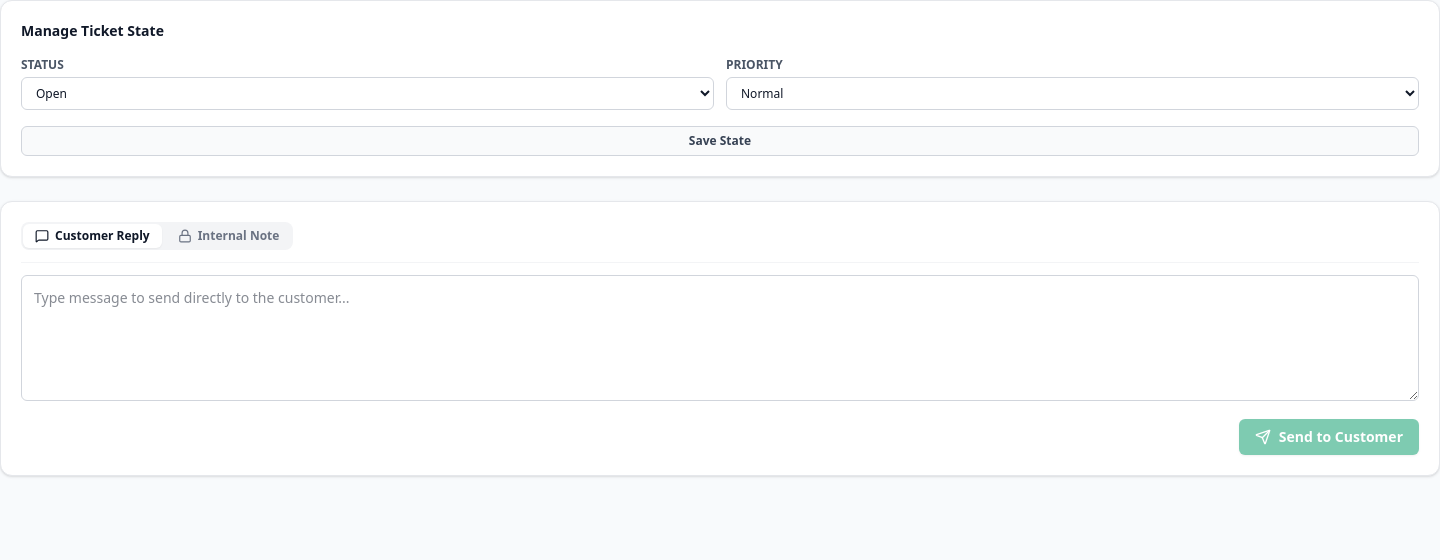
Test: migrated forms and navigation › keeps customer replies distinct from internal notes and handles transport failure
Click the button "Internal Note": (229, 236) [166, 224, 291, 248]
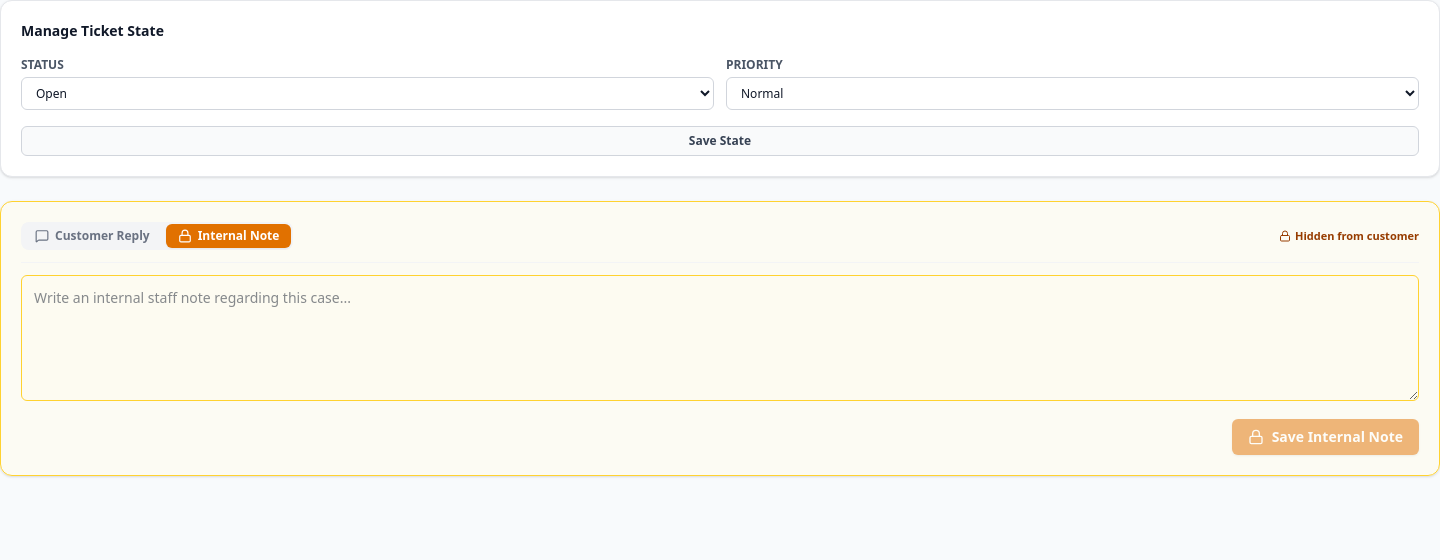
In the text box with placeholder "Write an internal staff note regarding this case...": (720, 338) [21, 275, 1419, 401], type "Synthetic internal note"
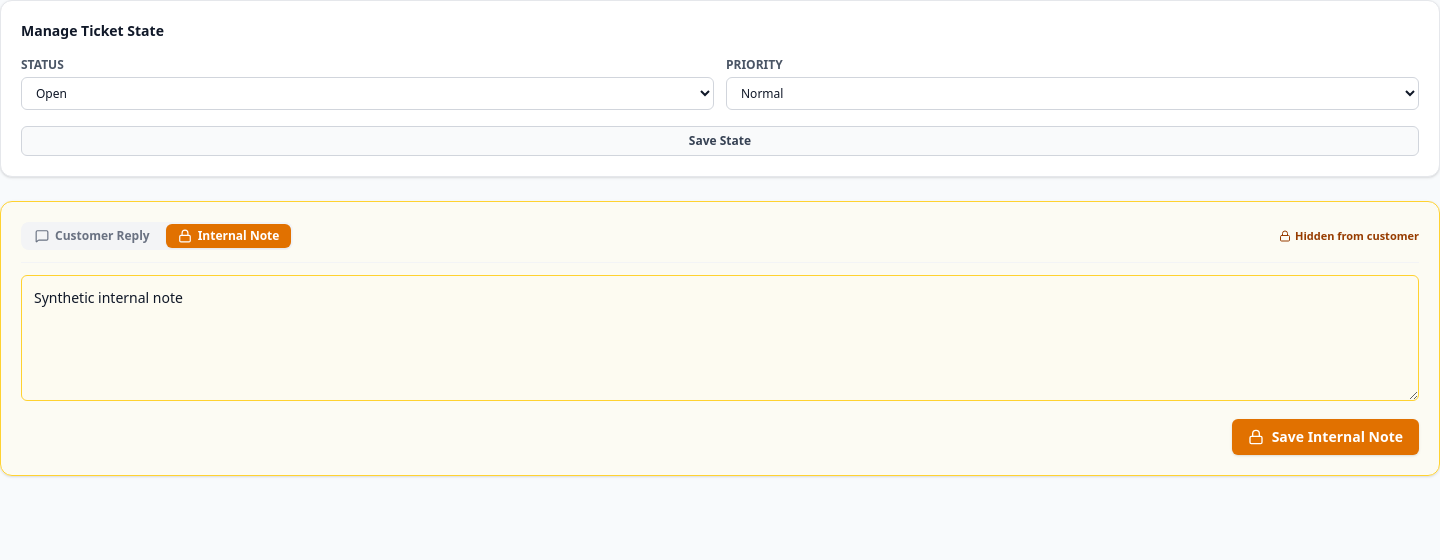
Click the button "Save Internal Note": (1325, 437) [1232, 419, 1419, 455]
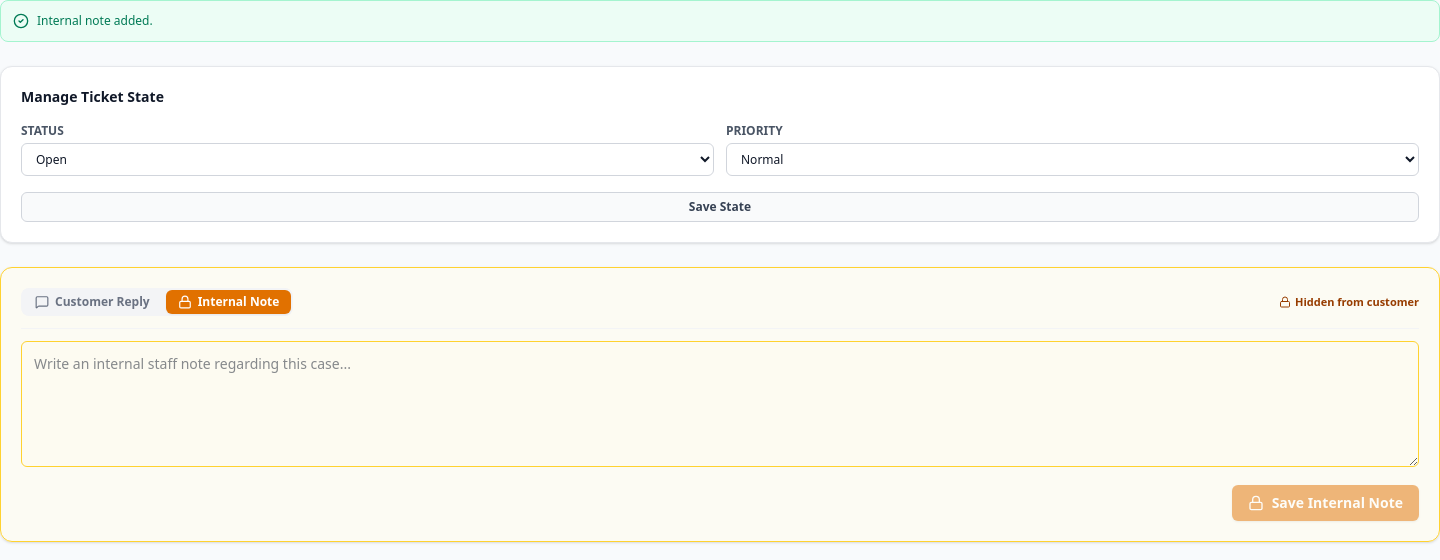
Result: the text "Internal note added." is shown at [37, 13, 153, 29]
Click the button "Save State": (720, 207) [21, 192, 1419, 222]
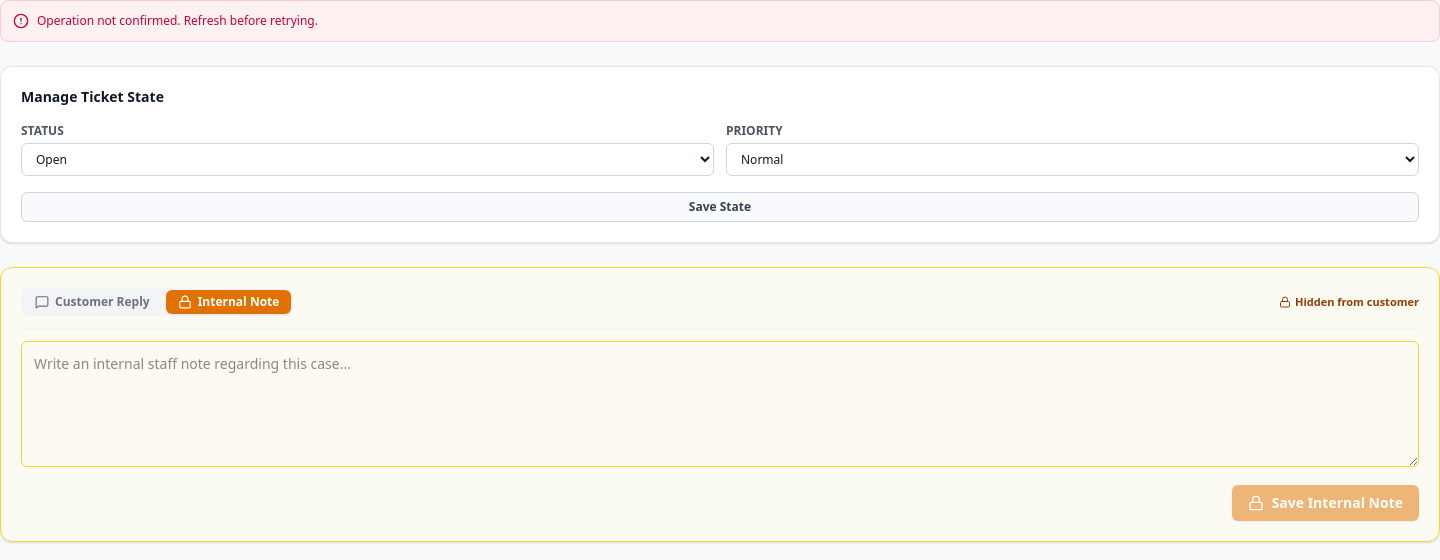
Result: the text "Operation not confirmed. Refresh before retrying." is shown at [37, 13, 318, 29]
